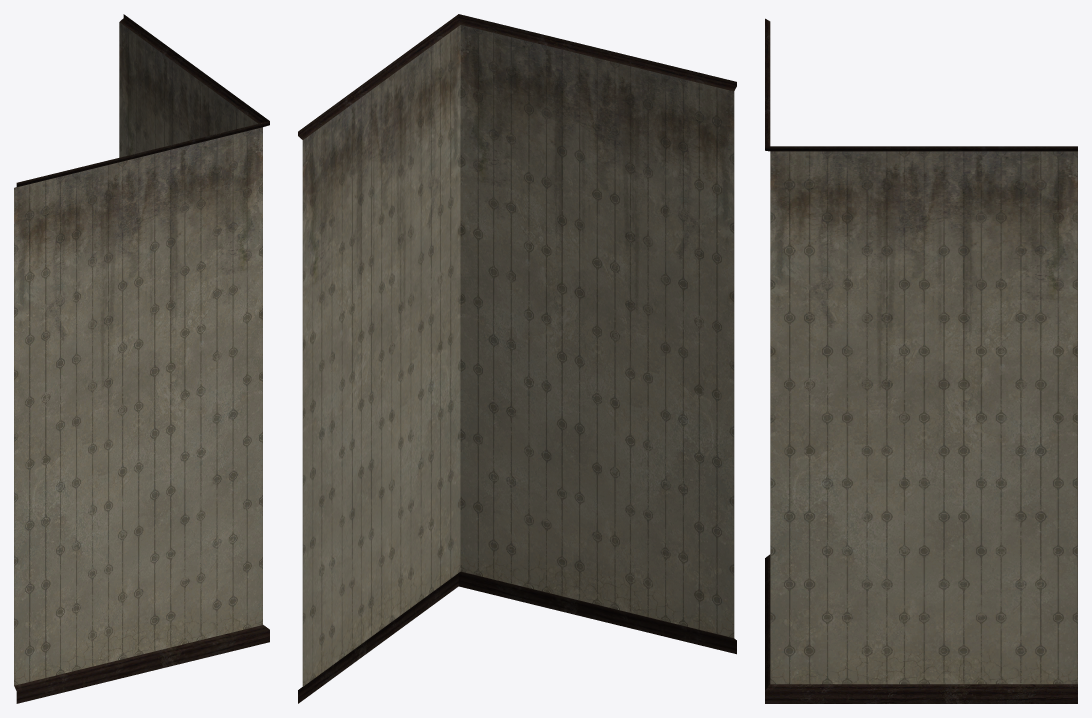
Rendered from hallway_damaged_convex.dae.
The picture shows the model from 3 angles, left to right: view 1: azimuth 30°, elevation 25°; view 2: azimuth 150°, elevation 25°; view 3: azimuth 270°, elevation 25°; orthographic projection. The views are drawn at different scales.
Visible parts, largest first — view 1: polySurface2; view 2: polySurface2; view 3: polySurface2.
Part boxes in pixels (x1,y1,x2,y2): polySurface2: (14, 14, 269, 703); polySurface2: (298, 14, 736, 703); polySurface2: (765, 18, 1077, 703).
Size of the model in its own units: 2.03 by 4 by 2.03.
